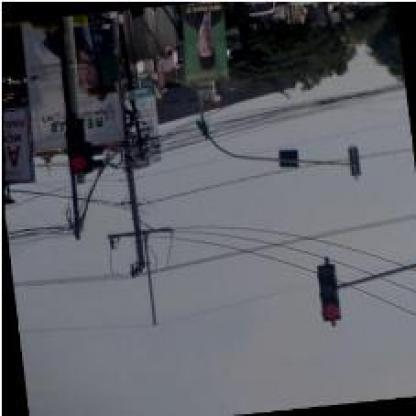red: (314, 261, 342, 322), (62, 114, 88, 172)
